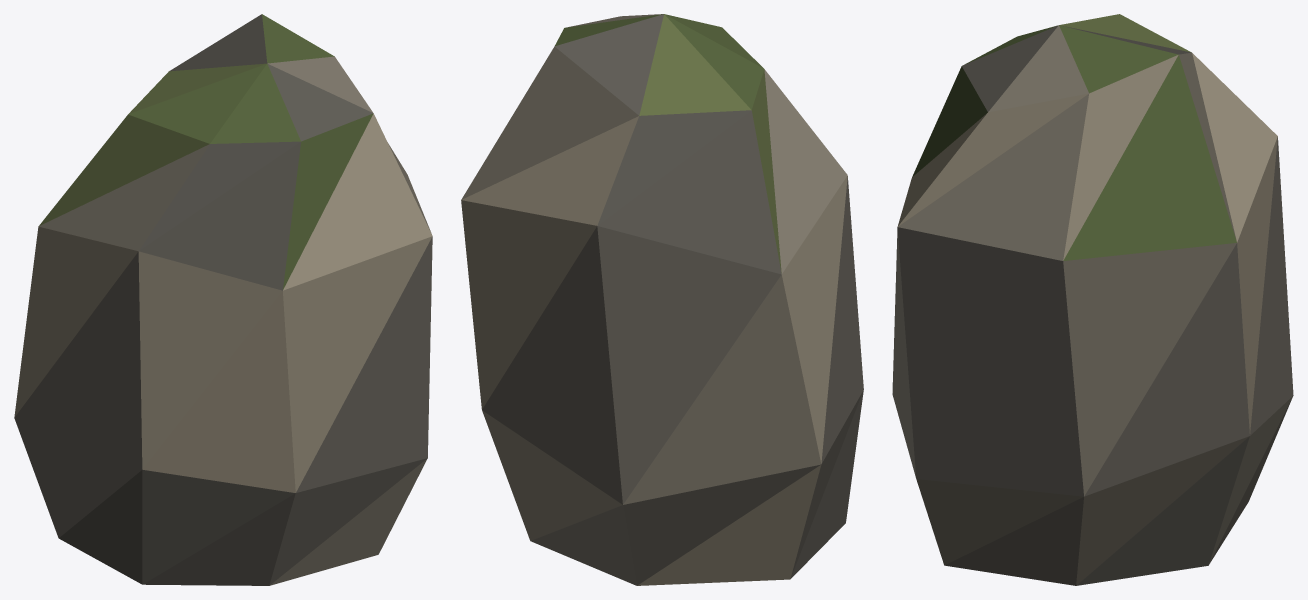
Rendered from stone_D.glb.
3 views of the same model, side by side, from view 1: azimuth 30°, elevation 25°; view 2: azimuth 150°, elevation 25°; view 3: azimuth 270°, elevation 25° (orthographic). The views are drawn at different scales.
Parts seen in each view (by area): view 1: stone_D; view 2: stone_D; view 3: stone_D.
Boxes of the visible parts, left/top/right/bottom form: stone_D: left=14, top=14, right=432, bottom=585; stone_D: left=461, top=14, right=863, bottom=585; stone_D: left=892, top=14, right=1293, bottom=585.
Size of the model in its own units: 0.2354 by 0.3016 by 0.2153.
